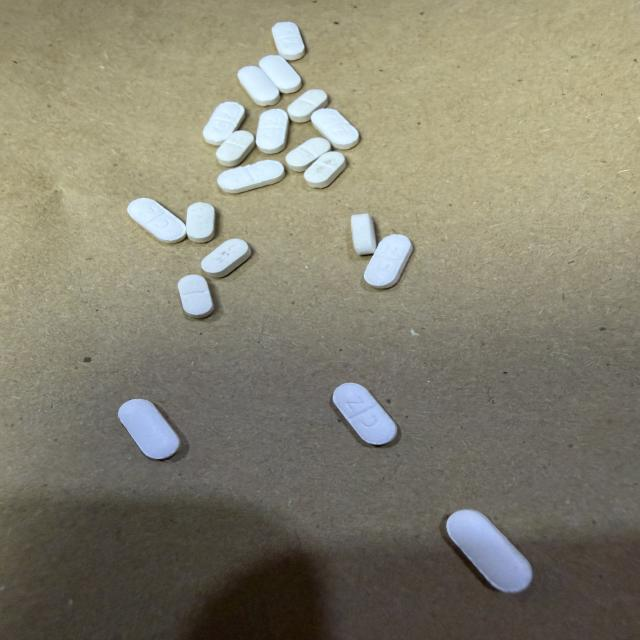pill: (447, 510, 532, 592), (333, 383, 397, 445), (119, 399, 180, 459), (128, 198, 186, 243), (364, 235, 412, 288), (218, 160, 284, 193), (311, 109, 359, 149), (202, 239, 251, 277), (203, 102, 245, 145), (238, 66, 280, 106), (259, 55, 302, 93), (304, 152, 346, 188), (178, 275, 213, 318), (286, 138, 331, 171), (256, 109, 289, 153), (216, 131, 255, 166), (287, 90, 328, 122), (272, 22, 305, 60), (187, 203, 215, 242), (351, 214, 376, 255)
